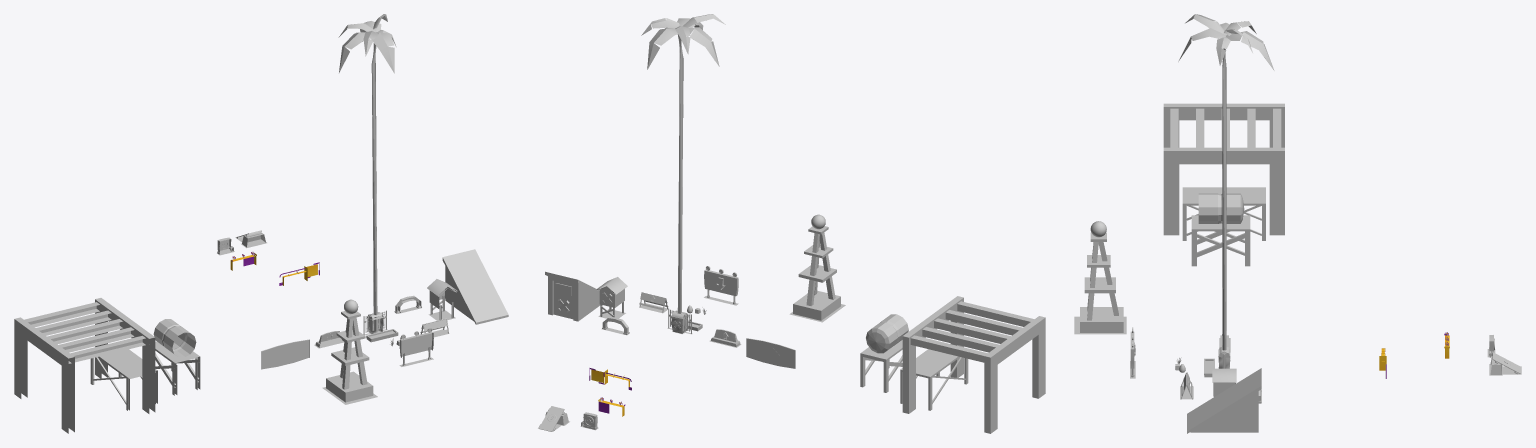
The model's file is vatcan(1).fbx.
The picture shows the model from 3 angles, left to right: view 1: azimuth 30°, elevation 25°; view 2: azimuth 150°, elevation 25°; view 3: azimuth 270°, elevation 25°; orthographic projection. The views are drawn at different scales.
Parts seen in each view (by area): view 1: Mai_Hong, Mai_Tam_Giac, Cay, VatCan1, Barrel, Barrel_2, Bang, vatcan1, truot2; view 2: Mai_Hong, Cay, VatCan1, Barrel, Mai_Tam_Giac, Barrel_2, Bang, vatcan1, truot2, Tam_van; view 3: Mai_Hong, Cay, Mai_Tam_Giac, VatCan1, Barrel, Barrel_2, vatcan1, Tam_van.
Boxes of the visible parts, bbox=[...] form: Mai_Hong: bbox=[14, 298, 155, 433]; Mai_Tam_Giac: bbox=[442, 249, 508, 324]; Cay: bbox=[338, 14, 396, 333]; VatCan1: bbox=[322, 299, 377, 404]; Barrel: bbox=[153, 319, 200, 395]; Barrel_2: bbox=[90, 349, 157, 410]; Bang: bbox=[261, 339, 309, 369]; vatcan1: bbox=[427, 279, 457, 320]; truot2: bbox=[399, 328, 433, 366]; Mai_Hong: bbox=[902, 296, 1045, 433]; Cay: bbox=[641, 14, 725, 313]; VatCan1: bbox=[789, 214, 845, 322]; Barrel: bbox=[860, 314, 908, 392]; Mai_Tam_Giac: bbox=[545, 271, 600, 321]; Barrel_2: bbox=[900, 349, 968, 410]; Bang: bbox=[746, 338, 795, 368]; vatcan1: bbox=[596, 277, 627, 318]; truot2: bbox=[704, 266, 738, 305]; Tam_van: bbox=[538, 406, 569, 431]; Mai_Hong: bbox=[1163, 103, 1284, 235]; Cay: bbox=[1178, 14, 1274, 350]; Mai_Tam_Giac: bbox=[1187, 368, 1261, 433]; VatCan1: bbox=[1074, 221, 1126, 334]; Barrel: bbox=[1191, 193, 1250, 266]; Barrel_2: bbox=[1182, 187, 1265, 240]; vatcan1: bbox=[1212, 368, 1236, 396]; Tam_van: bbox=[1489, 352, 1521, 375].
Size of the model in its own units: 1917 by 1302 by 1475.
